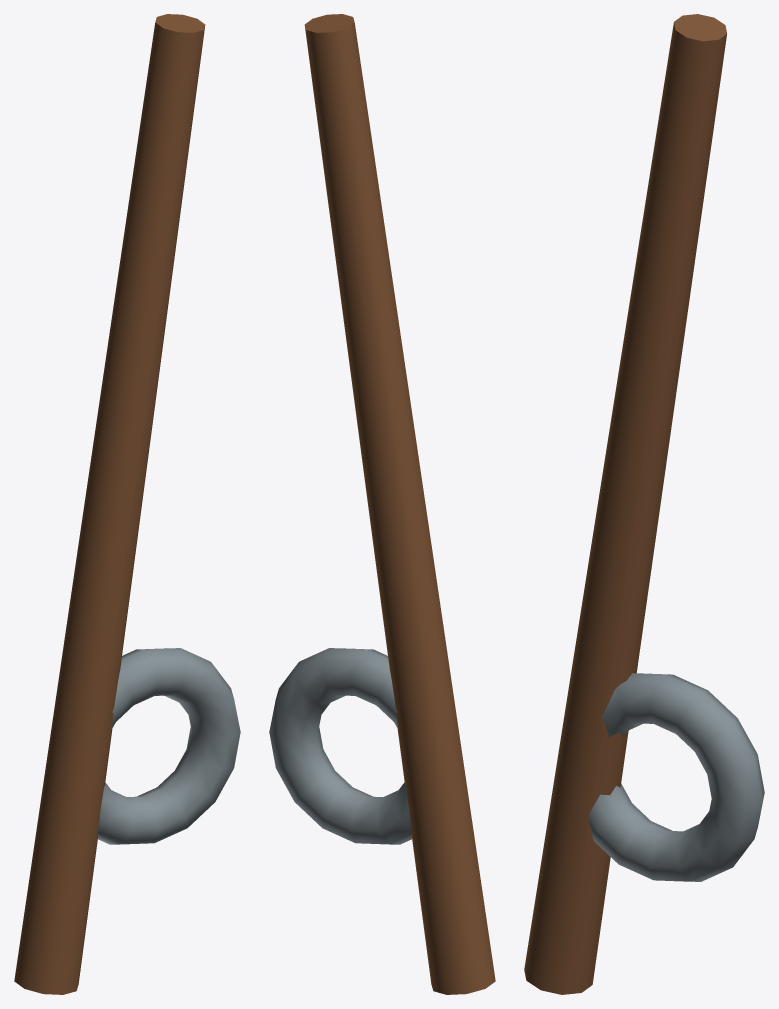
Rendered from tool_fishing_rod.glb.
3 renders of one model, left to right at view 1: azimuth 30°, elevation 25°; view 2: azimuth 150°, elevation 25°; view 3: azimuth 330°, elevation 25°, orthographic. The views are drawn at different scales.
Parts seen in each view (by area): view 1: handle, reel; view 2: handle, reel; view 3: handle, reel.
Boxes of the visible parts, x1,y1,x2,y2 form: handle: (14,14,205,994); reel: (98,648,240,844); handle: (304,14,495,994); reel: (269,648,411,844); handle: (524,14,727,994); reel: (588,673,764,881).
Size of what is drawn, in the model's own units: 0.6838 by 2.79 by 0.18.
